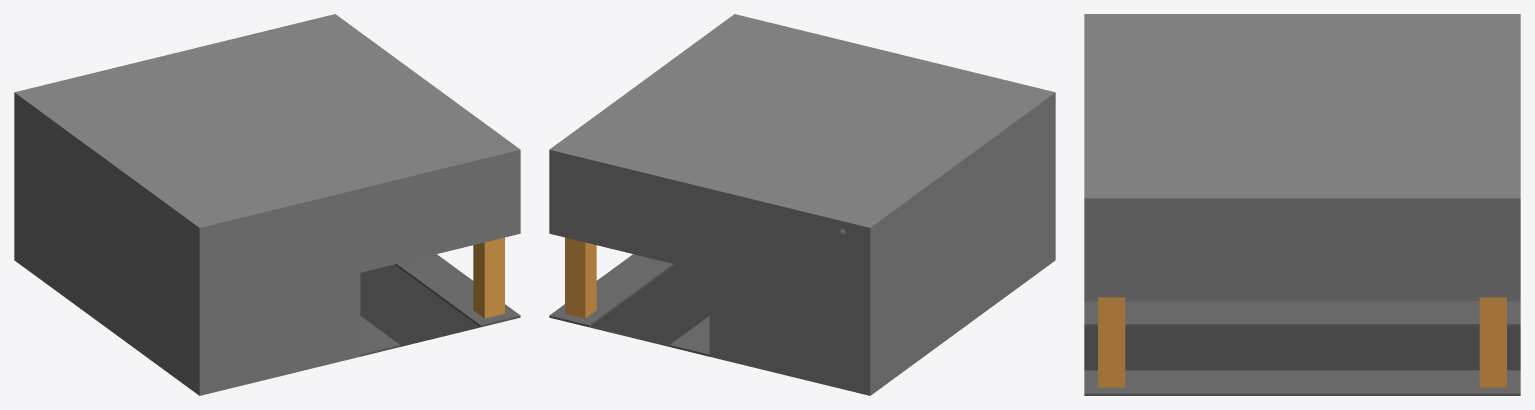
The model's file is MoneyExchangePlace.obj.
3 views of the same model, side by side, from view 1: azimuth 30°, elevation 25°; view 2: azimuth 150°, elevation 25°; view 3: azimuth 270°, elevation 25° (orthographic). The views are drawn at different scales.
Parts seen in each view (by area): view 1: 換金所; view 2: 換金所; view 3: 換金所.
Part boxes in pixels (bbox=[...]): 換金所: bbox=[14, 14, 520, 395]; 換金所: bbox=[549, 14, 1055, 395]; 換金所: bbox=[1084, 14, 1520, 395].
Bounding box in the file's own units: 16 × 8 × 16.
Materials: 1 (1 with a texture image).
